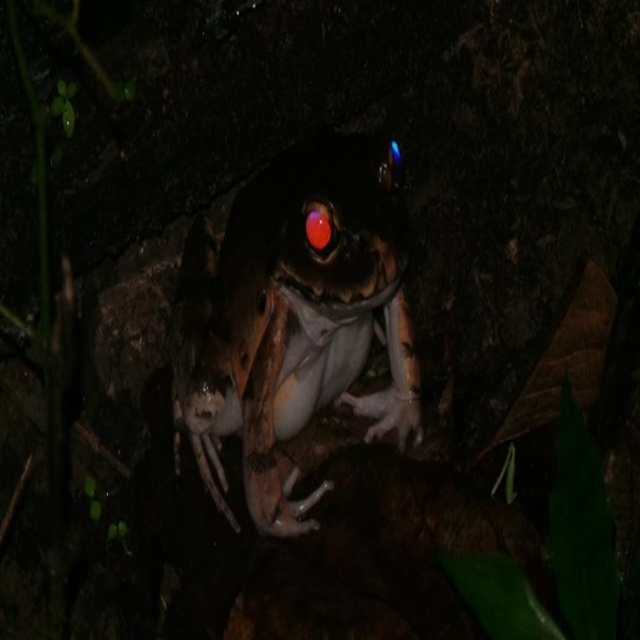Frog: (169, 137, 429, 537)
